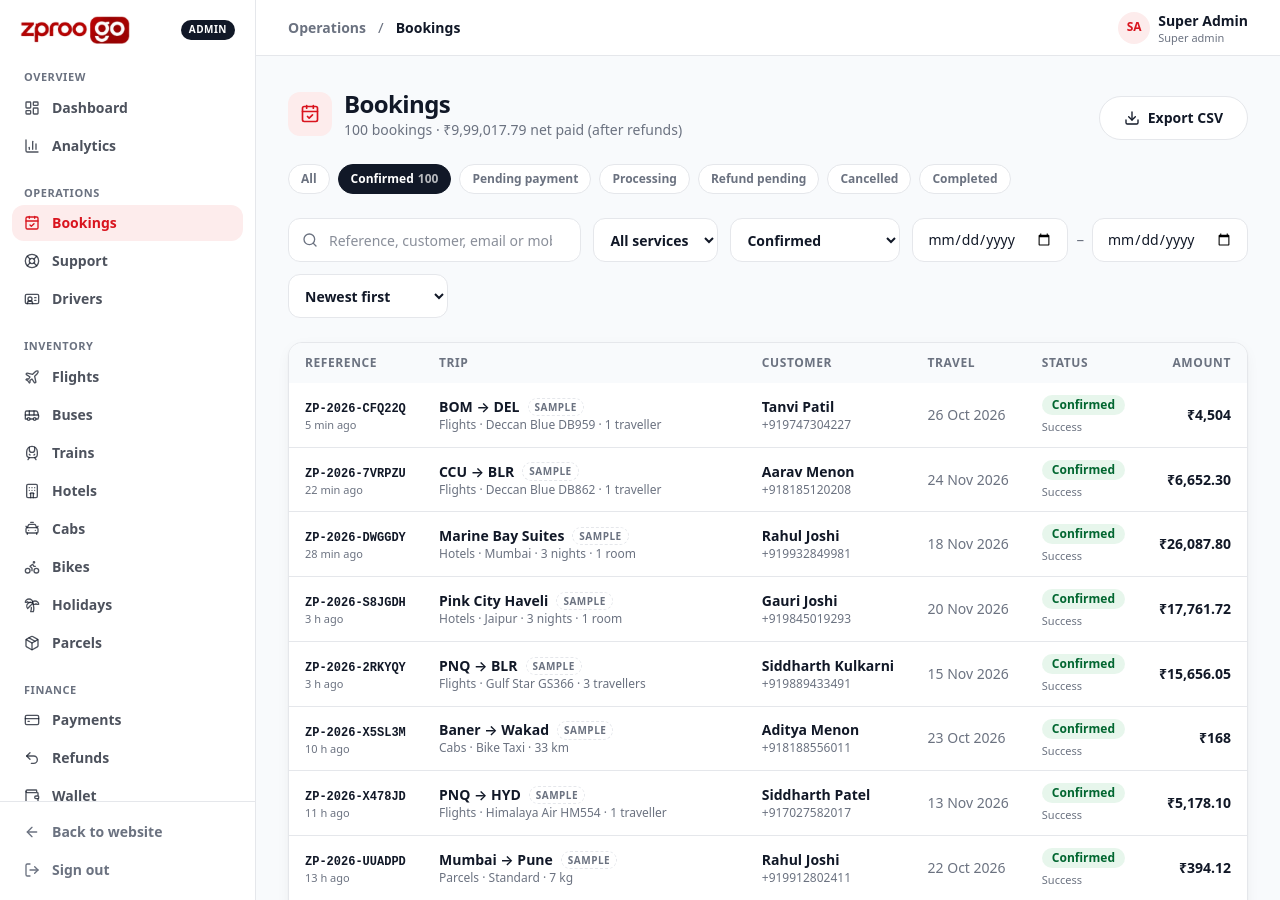
admin panel › filters bookings and opens one
Click the button with aria-label "Open booking ZP-": point(355, 417) [305,401,406,433]
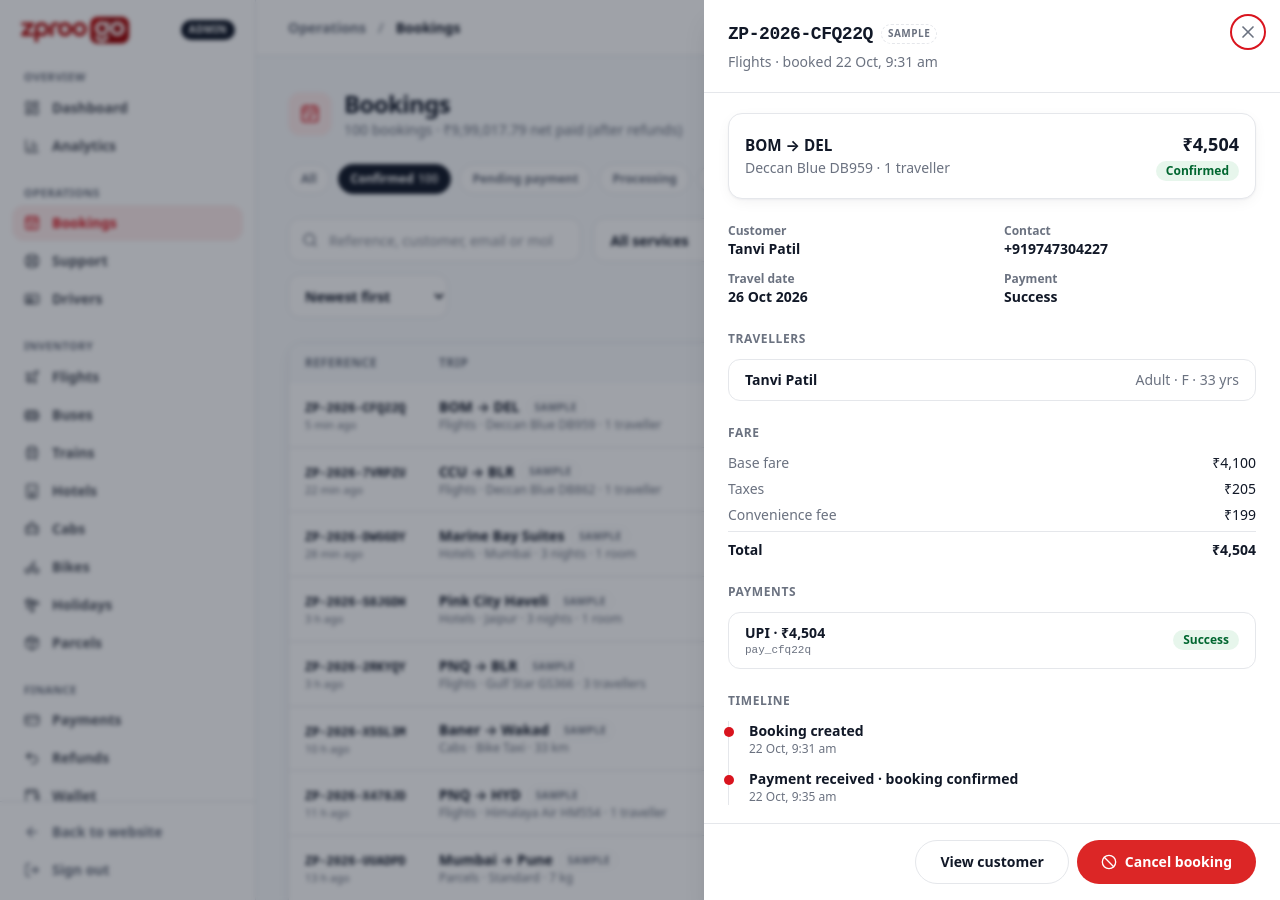
Now the button "Cancel booking" is shown, box [1077,840,1256,884]
Now the heading "Timeline" is shown, box [728,693,790,709]
